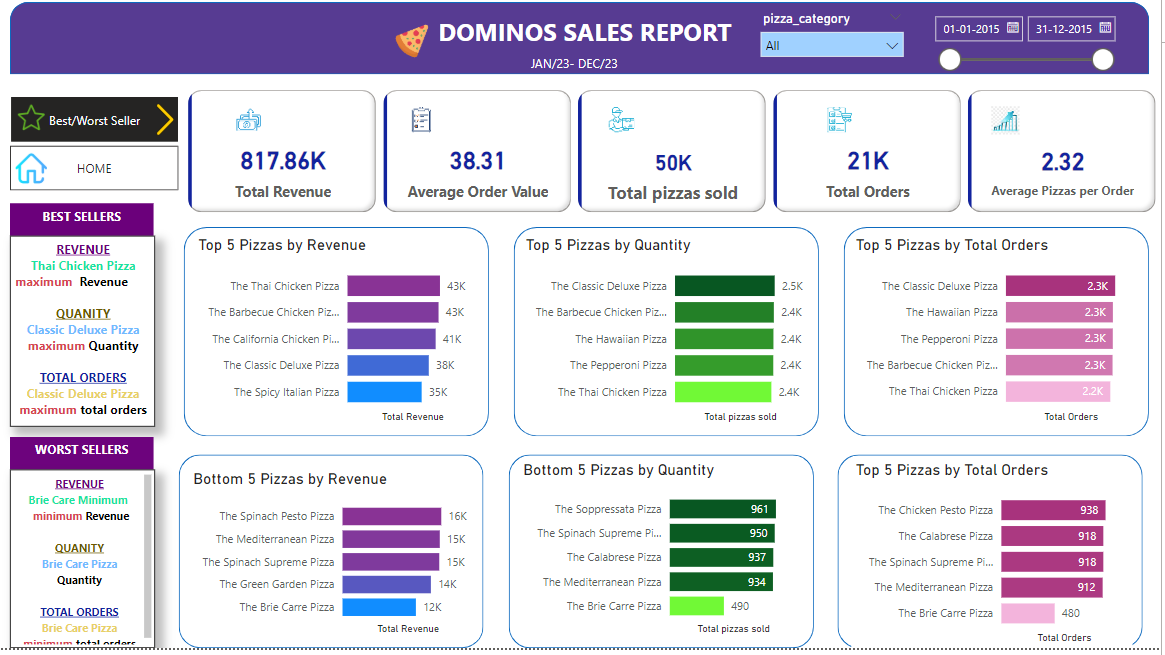

Layout of this report page (visuals, bound fields, positions):
{"tool":"powerbi","page":{"name":"Best/Worst Seller","canvas":[1280,720],"ordinal":1},"visuals":[{"type":"cardVisual","fields":{"Data":["Key Measures.Total Revenue","Key Measures.Average Order Value","Key Measures.Total pizzas sold","Key Measures.Total Orders","Key Measures.Average Pizzas per Order"]},"box":[206.6,102.7,1073.3,144.2],"z":0},{"type":"shape","box":[15.9,11,1250.5,79.5],"z":1000},{"type":"textbox","box":[468.2,20.8,359.4,57.5],"z":2000},{"type":"textbox","box":[583.1,64.8,283.6,39.1],"z":3000},{"type":"image","box":[257.9,30.6,399.7,47.7],"z":4000},{"type":"shape","box":[206.6,257.9,334.9,229.8],"z":5000},{"type":"textbox","box":[16.5,231.7,157.7,35.6],"z":6000},{"type":"textbox","box":[16.5,267.4,159,209.8],"z":7000},{"type":"textbox","box":[16.5,488.1,157.7,35.6],"z":8000},{"type":"textbox","box":[16.5,523.7,159,196.1],"z":9000},{"type":"slicer","fields":{"Values":["pizza_sales.pizza_category"]},"box":[830,14.7,177.2,69.7],"z":10000},{"type":"slicer","fields":{"Values":["pizza_sales.order_date"]},"box":[1019.5,17.1,217.6,86.8],"z":11000},{"type":"shape","box":[569.6,257.9,334.9,229.8],"z":12000},{"type":"shape","box":[931.5,257.9,334.9,229.8],"z":13000},{"type":"shape","box":[563.5,507.3,334.9,212.7],"z":14000},{"type":"shape","box":[925.4,507.3,334.9,212.7],"z":15000},{"type":"clusteredBarChart","title":"Top 5 Pizzas by Revenue","fields":{"Category":["pizza_sales.pizza_name"],"Y":["Key Measures.Total Revenue"]},"box":[217.6,267.7,317.8,210.3],"z":16000},{"type":"shape","box":[201.5,507.3,334.5,212.5],"z":17000},{"type":"clusteredBarChart","title":"Bottom 5 Pizzas by Revenue","fields":{"Category":["pizza_sales.pizza_name"],"Y":["Key Measures.Total Revenue"]},"box":[212.5,523.7,318.1,186.5],"z":18000},{"type":"clusteredBarChart","title":"Top 5 Pizzas by Quantity","fields":{"Category":["pizza_sales.pizza_name"],"Y":["Key Measures.Total pizzas sold"]},"box":[578.2,267.7,317.8,210.3],"z":19000},{"type":"clusteredBarChart","title":"Bottom 5 Pizzas by Quantity","fields":{"Category":["pizza_sales.pizza_name"],"Y":["Key Measures.Total pizzas sold"]},"box":[574.5,514.1,311.2,196.1],"z":20000},{"type":"clusteredBarChart","title":"Top 5 Pizzas by Total Orders","fields":{"Category":["pizza_sales.pizza_name"],"Y":["Key Measures.Total Orders"]},"box":[940.5,267.4,318.1,209.8],"z":21000},{"type":"clusteredBarChart","title":"Top 5 Pizzas by Total Orders","fields":{"Category":["pizza_sales.pizza_name"],"Y":["Key Measures.Total Orders"]},"box":[940.5,514.1,308.5,205.7],"z":22000},{"type":"pageNavigator","box":[17.8,115.2,183.7,49.4],"z":23000},{"type":"pageNavigator","box":[16.5,168.6,185.1,49.4],"z":24000},{"type":"image","box":[96,117.9,182.3,43.9],"z":25000},{"type":"image","box":[17.8,117.9,43.9,39.8],"z":26000},{"type":"image","box":[17.8,156.3,43.9,74],"z":27000}]}

Visuals, with their boxes in screenshot pixels (x1, y1, x2, y2), scaled from the page's 1280x720 canvas onto the 1165x655 screenshot:
cardVisual - Key Measures.Total Revenue x Key Measures.Average Order Value: 188,93,1164,225
shape: 14,10,1153,82
textbox: 426,19,753,71
textbox: 531,59,789,95
image: 235,28,599,71
shape: 188,235,493,444
textbox: 15,211,159,243
textbox: 15,243,160,434
textbox: 15,444,159,476
textbox: 15,476,160,654
slicer - pizza_sales.pizza_category: 755,13,917,77
slicer - pizza_sales.order_date: 928,16,1126,95
shape: 518,235,823,444
shape: 848,235,1153,444
shape: 513,462,818,654
shape: 842,462,1147,654
"Top 5 Pizzas by Revenue" clusteredBarChart: 198,244,487,435
shape: 183,462,488,654
"Bottom 5 Pizzas by Revenue" clusteredBarChart: 193,476,483,646
"Top 5 Pizzas by Quantity" clusteredBarChart: 526,244,816,435
"Bottom 5 Pizzas by Quantity" clusteredBarChart: 523,468,806,646
"Top 5 Pizzas by Total Orders" clusteredBarChart: 856,243,1146,434
"Top 5 Pizzas by Total Orders" clusteredBarChart: 856,468,1137,654
pageNavigator: 16,105,183,150
pageNavigator: 15,153,183,198
image: 87,107,253,147
image: 16,107,56,143
image: 16,142,56,210
